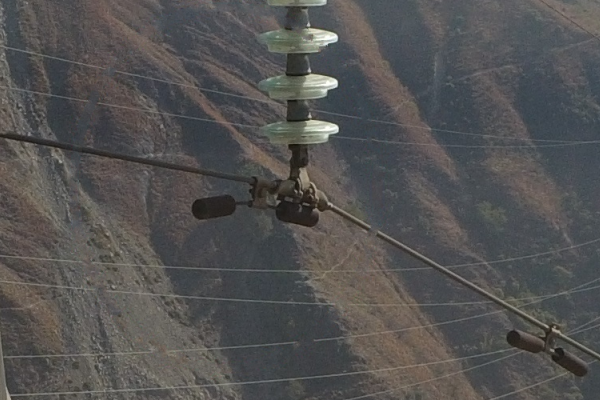damper: (189, 171, 322, 227), (505, 316, 593, 378)
